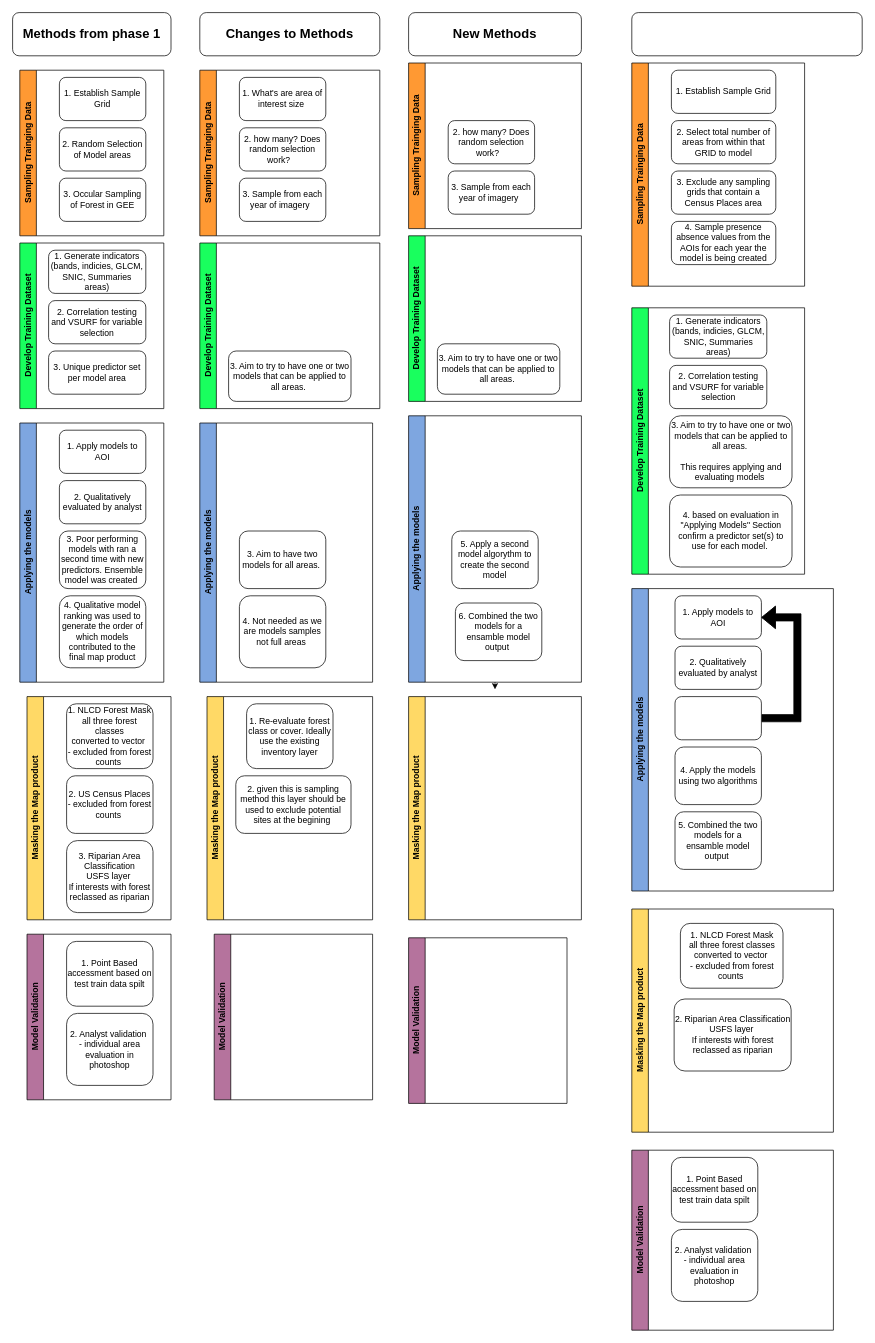
This 875x1343 diagram has some shape labels left out. Here are the shapes that lost their labels. From the top down, the centre of each, then its label:
the point at 746,34: Proposed Phase 2 methods
the point at 717,718: 3. Determine core predictor set and reapply to all areas
